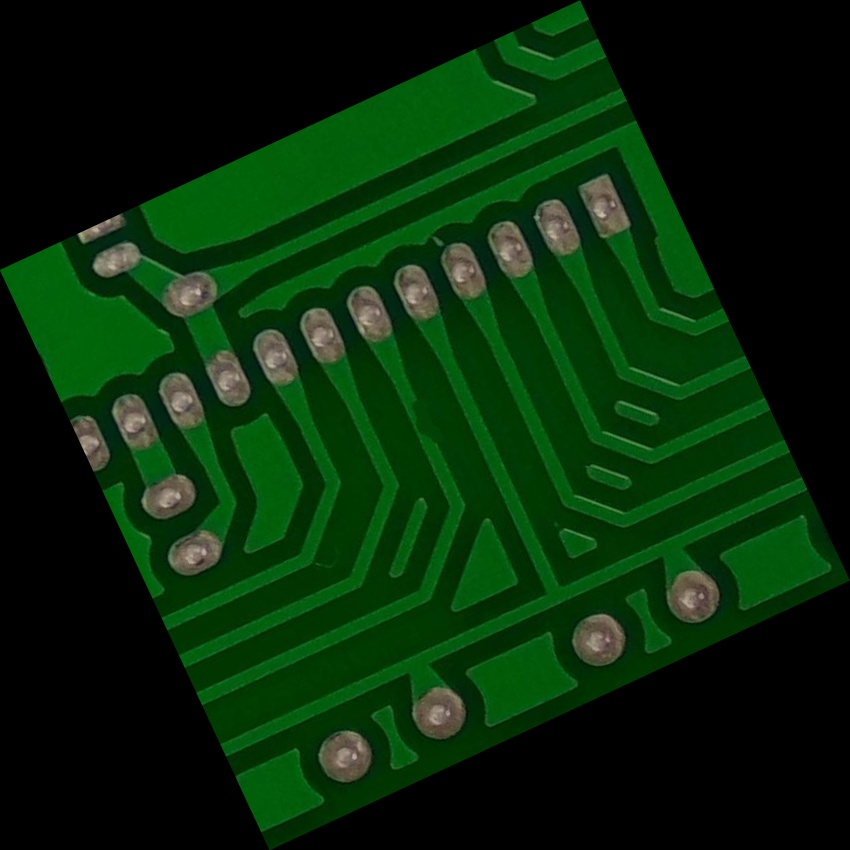mouse_bite: (391, 385, 460, 465)
